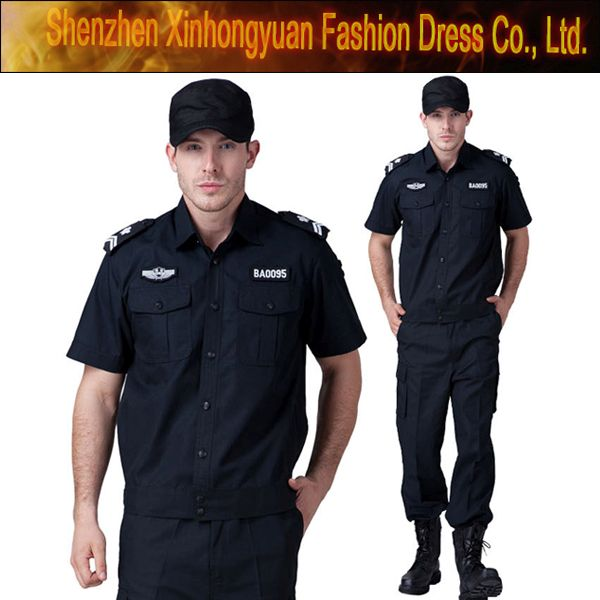uniform: (111, 204, 307, 576), (383, 139, 500, 542)
